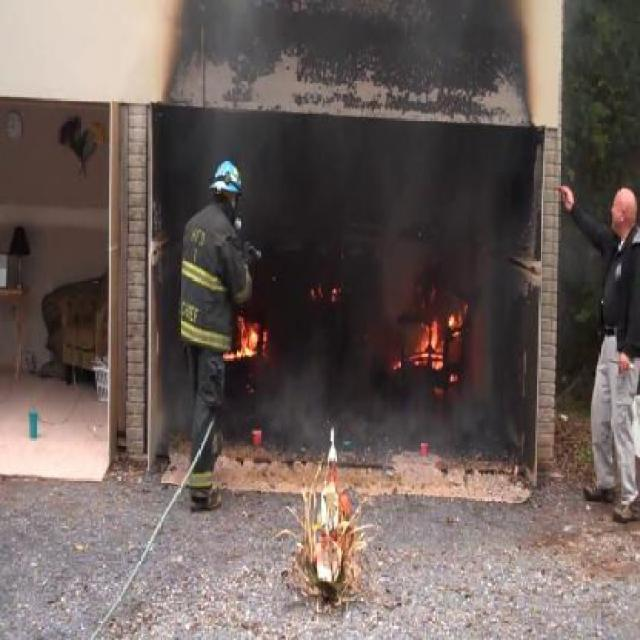fire: (386, 254, 463, 390), (234, 292, 278, 372)
smoke: (268, 334, 584, 471), (349, 84, 546, 234), (158, 86, 334, 223)
